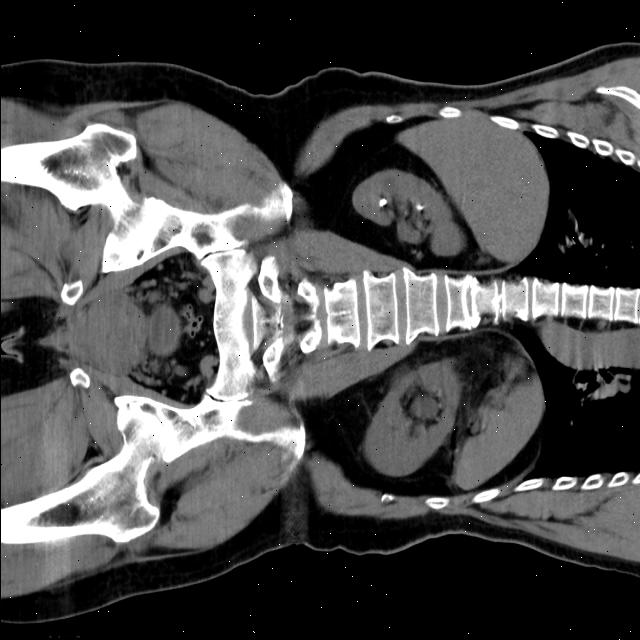kidneystone: (379, 198, 386, 206), (421, 201, 425, 207)
